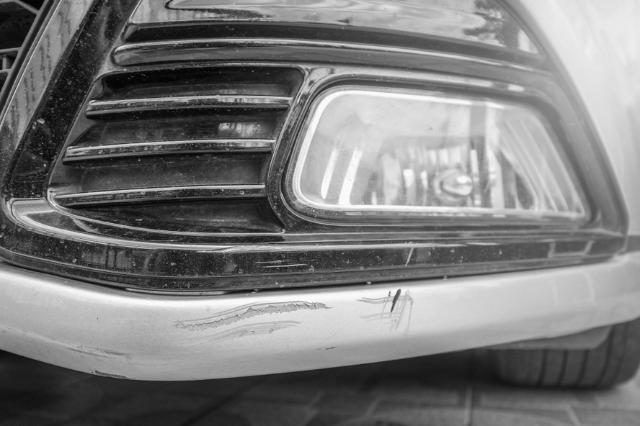Bumper: (70, 256, 455, 372)
